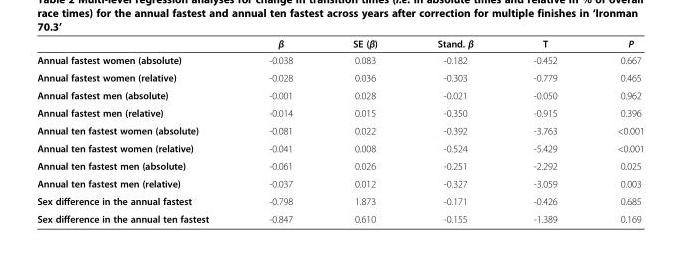table: (36, 36, 643, 224)
table column: (36, 36, 238, 224), (406, 36, 502, 224), (238, 36, 322, 224), (322, 36, 406, 224), (502, 36, 586, 224), (586, 36, 643, 224)
table column header: (36, 36, 643, 51)
table row: (36, 68, 643, 86), (36, 103, 643, 121), (36, 121, 643, 139), (36, 156, 643, 174), (36, 174, 643, 192), (36, 51, 643, 68), (36, 86, 643, 103), (36, 139, 643, 156), (36, 192, 643, 209), (36, 36, 643, 51), (36, 209, 643, 224)
